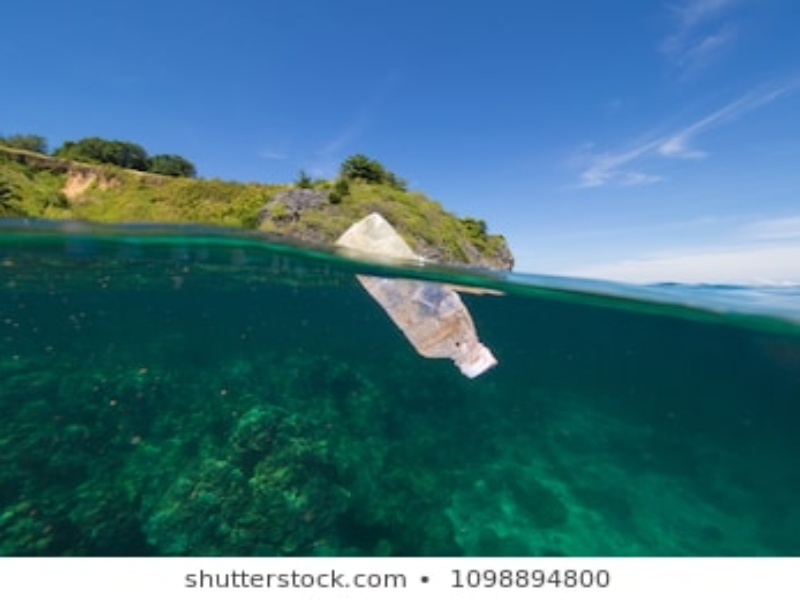bottle-cap: (452, 352, 499, 378)
plastic-bottle: (337, 211, 497, 378)
